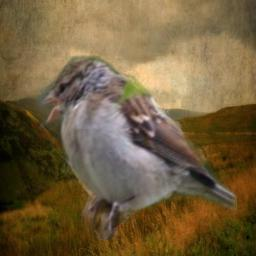Sparrow: (36, 55, 237, 240)
